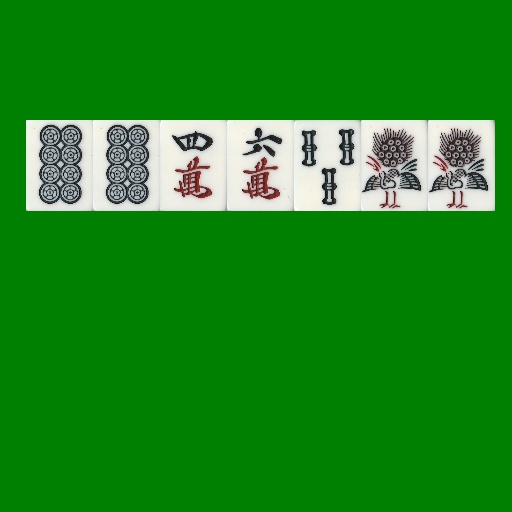1s: (361, 120, 428, 211), (428, 120, 495, 211)
3s: (294, 120, 361, 211)
4m: (160, 120, 227, 211)
6m: (227, 120, 294, 211)
8p: (26, 120, 93, 211), (93, 120, 160, 211)
